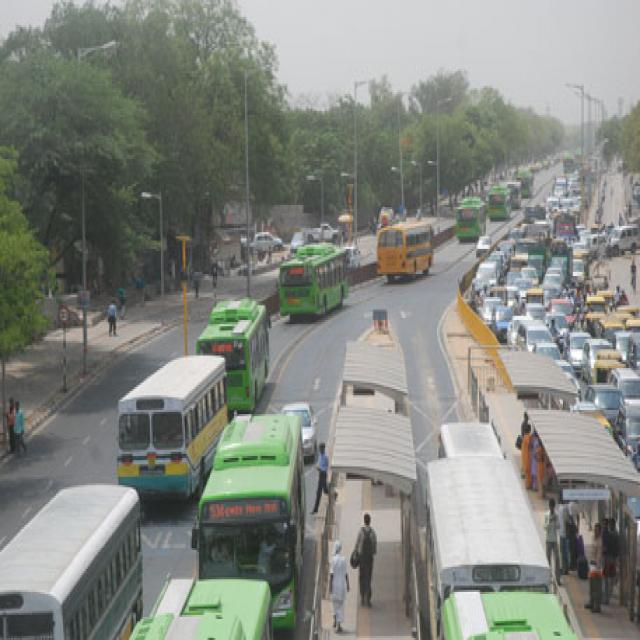BUS: (102, 349, 235, 506), (273, 240, 359, 326), (371, 216, 438, 288)
